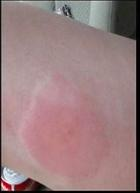Spider: (21, 82, 106, 180)
